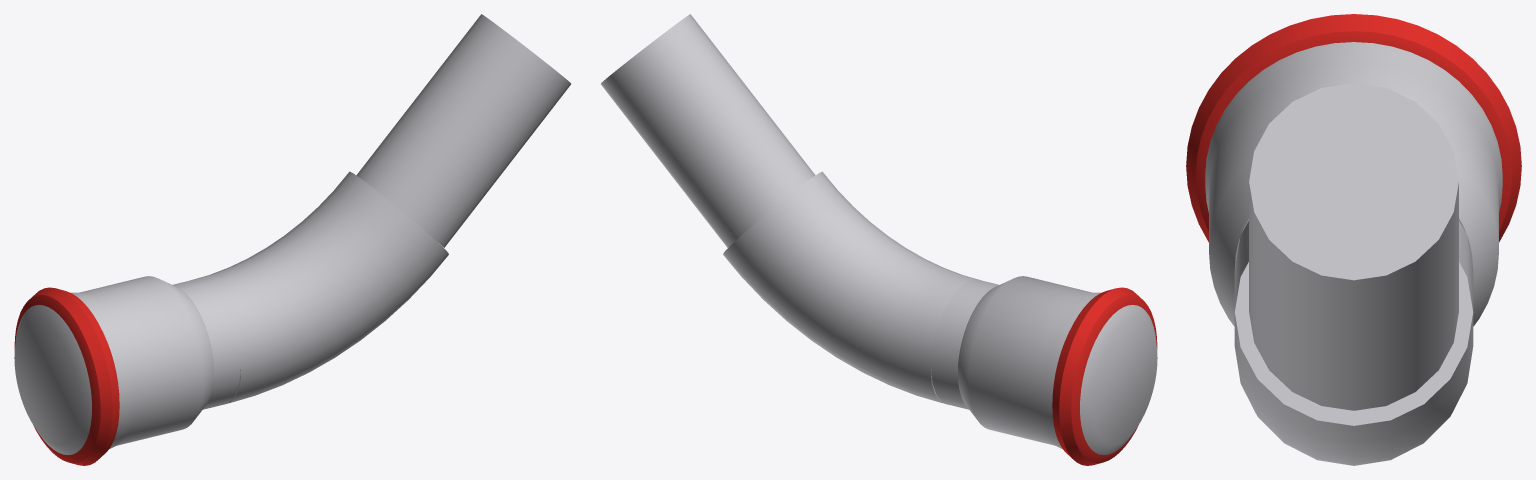
The model's file is fitting_e45_r.glb.
3 renders of one model, left to right at view 1: azimuth 30°, elevation 25°; view 2: azimuth 150°, elevation 25°; view 3: azimuth 270°, elevation 25°, orthographic. The views are drawn at different scales.
Parts seen in each view (by area): view 1: изгиб, гладкий конец, раструб, кольцо пресс, корпус; view 2: изгиб, гладкий конец, раструб, кольцо пресс, корпус; view 3: гладкий конец, раструб, изгиб, кольцо пресс, корпус.
Boxes of the visible parts, x1,y1,x2,y2 form: изгиб: (190,171,448,403); гладкий конец: (356,14,570,247); раструб: (14,276,213,455); кольцо пресс: (14,287,119,465); корпус: (173,279,240,409); изгиб: (723,171,981,403); гладкий конец: (601,14,815,247); раструб: (958,276,1157,455); кольцо пресс: (1052,287,1157,465); корпус: (931,279,998,409); гладкий конец: (1249,83,1458,410); раструб: (1205,42,1502,326); изгиб: (1234,245,1473,465); кольцо пресс: (1186,14,1521,242); корпус: (1234,221,1473,292).
Bounding box in the file's own units: 0.1145 × 0.0712 × 0.0352.
